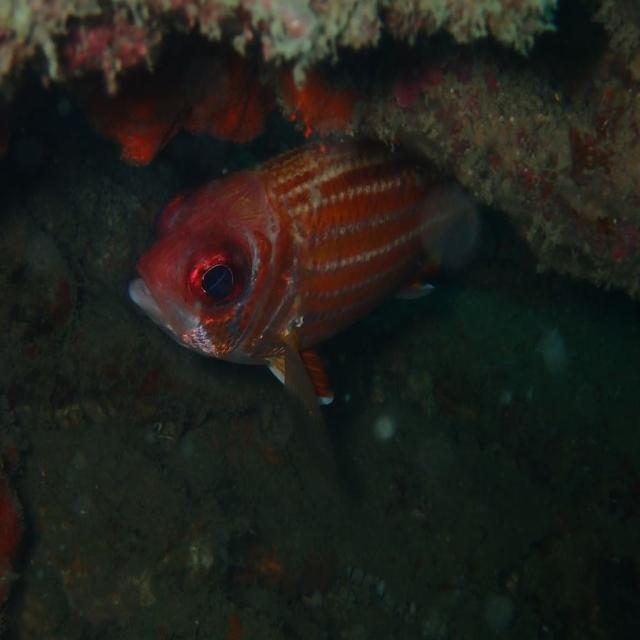Asker Baligi: (126, 128, 482, 434)
